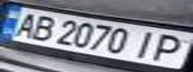0: (106, 25, 136, 56), (69, 19, 93, 49)
2: (48, 17, 78, 47)
7: (90, 21, 112, 52)
A: (3, 10, 42, 38)
B: (21, 12, 60, 43)
I: (127, 28, 166, 61)
P: (145, 32, 193, 63)
